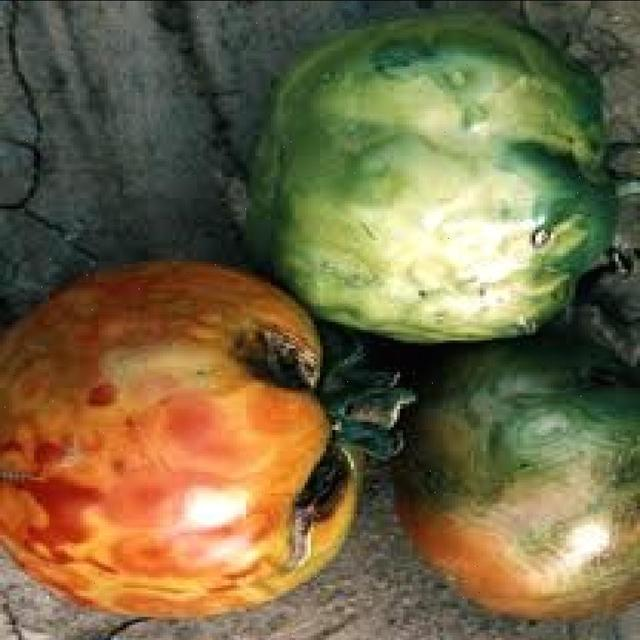Spotted wilt Virus Fruit: (121, 117, 346, 318)
